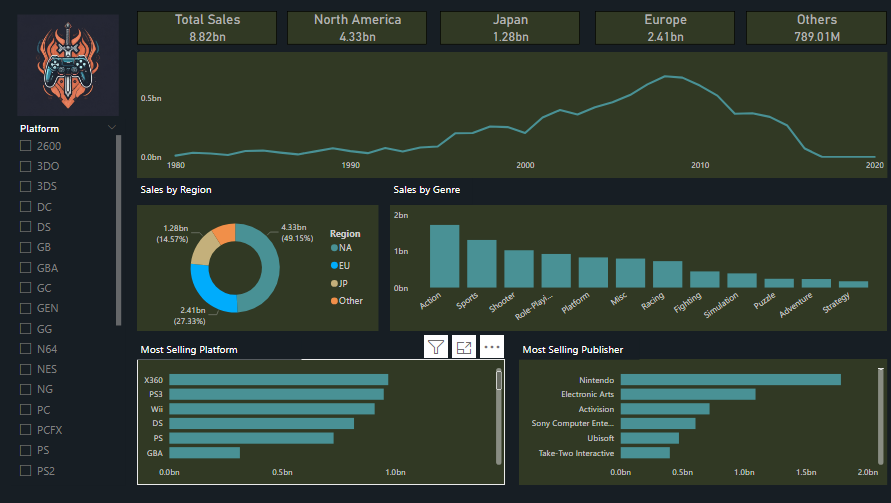

This screenshot's page, from the dashboard's own definition file:
{"tool":"powerbi","page":{"name":"Overview ","canvas":[1280,720],"ordinal":1},"visuals":[{"type":"card","title":"Total Sales","fields":{"Values":["Sum(vgsales.sales)"]},"box":[196.9,16.9,199.7,47.8],"z":0},{"type":"card","title":"North America","fields":{"Values":["Sum(vgsales.sales)"]},"box":[412.1,16.9,199.7,47.8],"z":1000},{"type":"card","title":"Others","fields":{"Values":["Sum(vgsales.sales)"]},"box":[1067.6,16.9,201.1,47.8],"z":2000},{"type":"card","title":"Europe","fields":{"Values":["Sum(vgsales.sales)"]},"box":[851,16.9,199.7,47.8],"z":3000},{"type":"card","title":"Japan","fields":{"Values":["Sum(vgsales.sales)"]},"box":[630.2,16.9,199.7,47.8],"z":4000},{"type":"lineChart","fields":{"Category":["vgsales.Year"],"Y":["Sum(vgsales.sales)"]},"box":[196.9,76,1071.8,180],"z":5000},{"type":"donutChart","fields":{"Y":["Sum(vgsales.sales)"],"Category":["vgsales.Region"]},"box":[196.9,294,344.6,180],"z":6000},{"type":"columnChart","fields":{"Y":["Sum(vgsales.sales)"],"Category":["vgsales.Genre"]},"box":[558.4,294,710.3,180],"z":7000},{"type":"clusteredBarChart","fields":{"Y":["Sum(vgsales.sales)"],"Category":["vgsales.Platform"]},"box":[196.9,514.8,526.1,180],"z":8000},{"type":"clusteredBarChart","fields":{"Y":["Sum(vgsales.sales)"],"Category":["vgsales.Publisher"]},"box":[742.7,514.8,526.1,180],"z":9000},{"type":"textbox","box":[196.9,256,119.6,38],"z":10000},{"type":"textbox","box":[558.4,256,118.2,38],"z":11000},{"type":"textbox","box":[196.9,483.9,234.9,30.9],"z":12000},{"type":"textbox","box":[742.7,483.9,171.6,30.9],"z":13000},{"type":"image","box":[16.9,16.9,163.2,154.7],"z":14000},{"type":"slicer","fields":{"Values":["vgsales.Platform"]},"box":[16.9,171.6,163.2,523.3],"z":15000}]}

Visuals, with their boxes in screenshot pixels (x1, y1, x2, y2), scaled from the page's 1280x720 canvas onto the 891x503 screenshot:
"Total Sales" card: bbox=(137, 12, 276, 45)
"North America" card: bbox=(287, 12, 426, 45)
"Others" card: bbox=(743, 12, 883, 45)
"Europe" card: bbox=(592, 12, 731, 45)
"Japan" card: bbox=(439, 12, 578, 45)
lineChart - vgsales.Year x Sum(vgsales.sales): bbox=(137, 53, 883, 179)
donutChart - Sum(vgsales.sales) x vgsales.Region: bbox=(137, 205, 377, 331)
columnChart - Sum(vgsales.sales) x vgsales.Genre: bbox=(389, 205, 883, 331)
clusteredBarChart - Sum(vgsales.sales) x vgsales.Platform: bbox=(137, 360, 503, 485)
clusteredBarChart - Sum(vgsales.sales) x vgsales.Publisher: bbox=(517, 360, 883, 485)
textbox: bbox=(137, 179, 220, 205)
textbox: bbox=(389, 179, 471, 205)
textbox: bbox=(137, 338, 301, 360)
textbox: bbox=(517, 338, 636, 360)
image: bbox=(12, 12, 125, 120)
slicer - vgsales.Platform: bbox=(12, 120, 125, 485)
